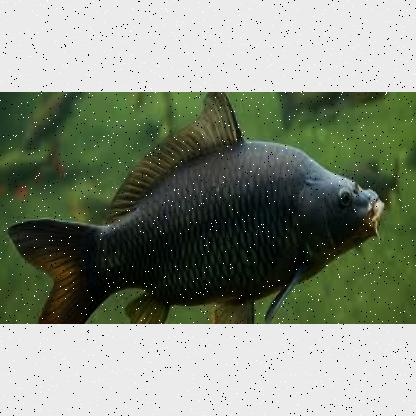ikan-mas: (8, 91, 386, 323)
